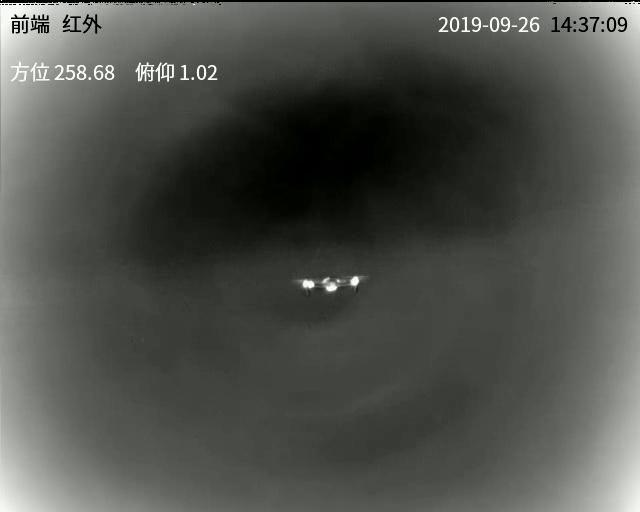DRONE: (301, 272, 361, 297)
